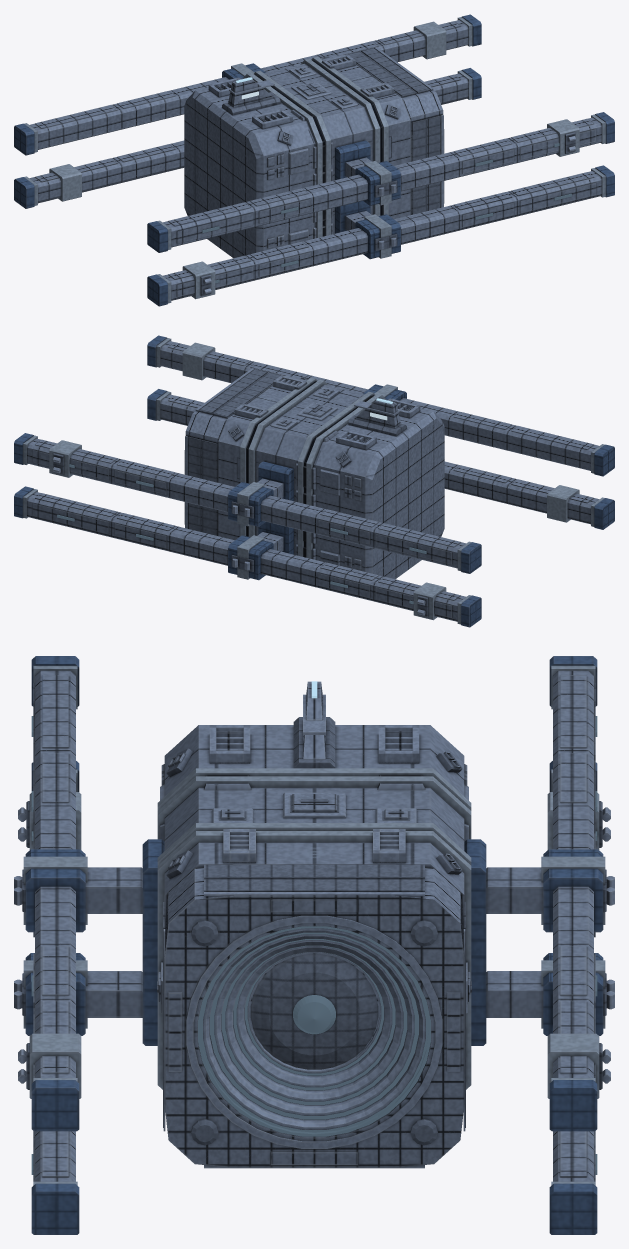
The picture shows the model from 3 angles, top to bottom: view 1: azimuth 30°, elevation 25°; view 2: azimuth 150°, elevation 25°; view 3: azimuth 270°, elevation 25°; orthographic projection. The views are drawn at different scales.
Parts seen in each view (by area): view 1: O3_11; view 2: O3_11; view 3: O3_11.
Part boxes in pixels (box(x1,y1,x2,y2)): O3_11: box(14, 14, 614, 306); O3_11: box(14, 335, 614, 627); O3_11: box(14, 656, 614, 1234).
Bounding box in the file's own units: 1 × 0.3627 × 0.588.
14 materials, 4 textured.
